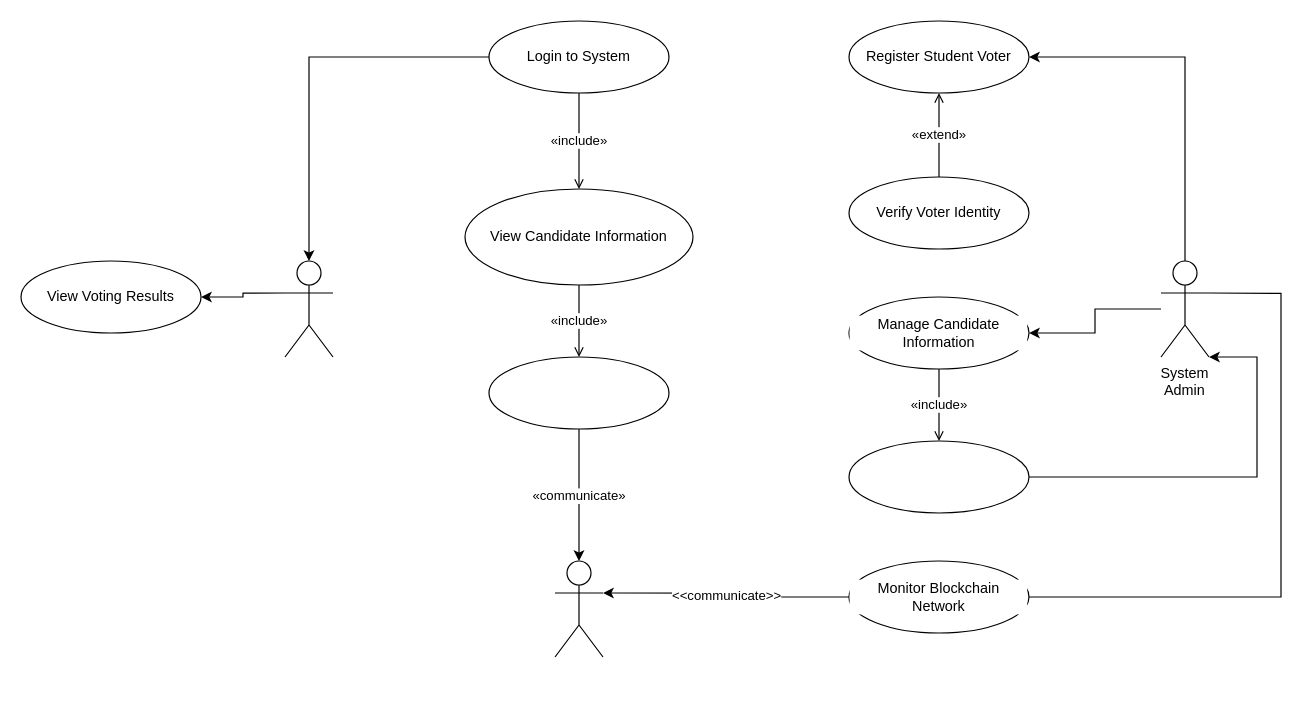
The diagram is 1303 pixels wide and 721 high, and some of its shapes have lost their labels. The shapes that lost their labels are listed below. From the top down, each one's centre as x and y in pixels, then its label:
pixel 308 308: Student Voter
pixel 578 392: Cast Vote
pixel 938 476: Generate Vote Report
pixel 578 608: Blockchain Network
